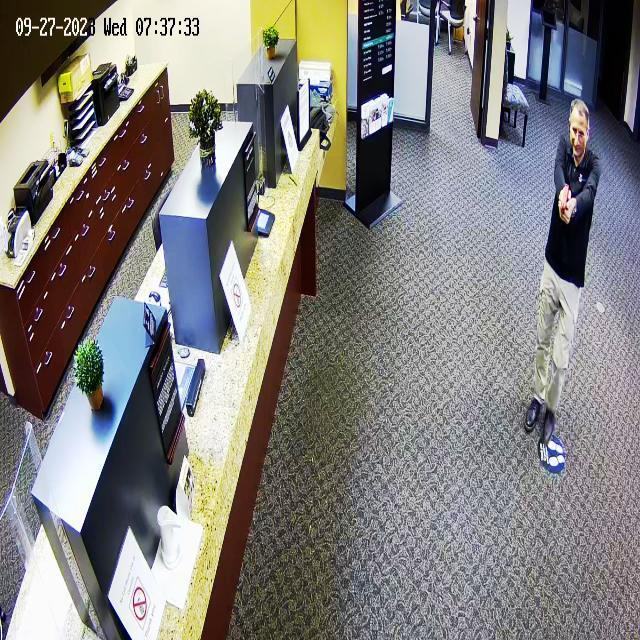Gun: (550, 179, 590, 228)
